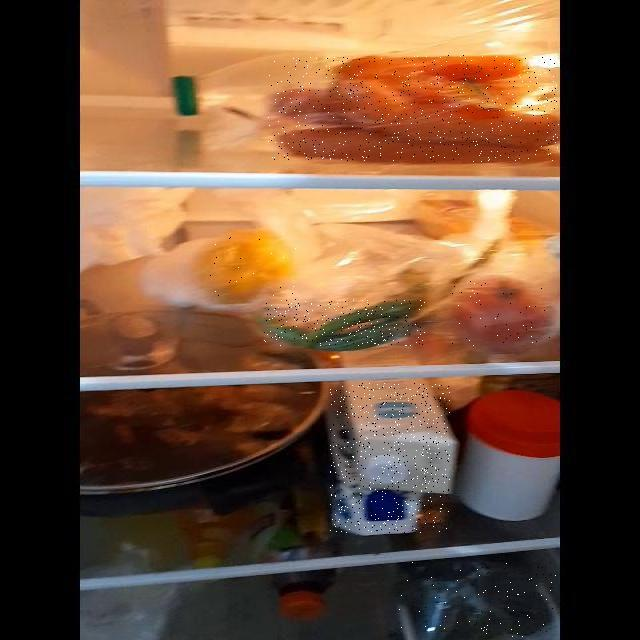broccoli: (399, 562, 556, 637)
carrot: (268, 55, 559, 162)
green chilies: (264, 300, 425, 346)
lemon: (208, 232, 296, 300)
milk: (330, 383, 450, 533)
tomato: (452, 280, 552, 346)
